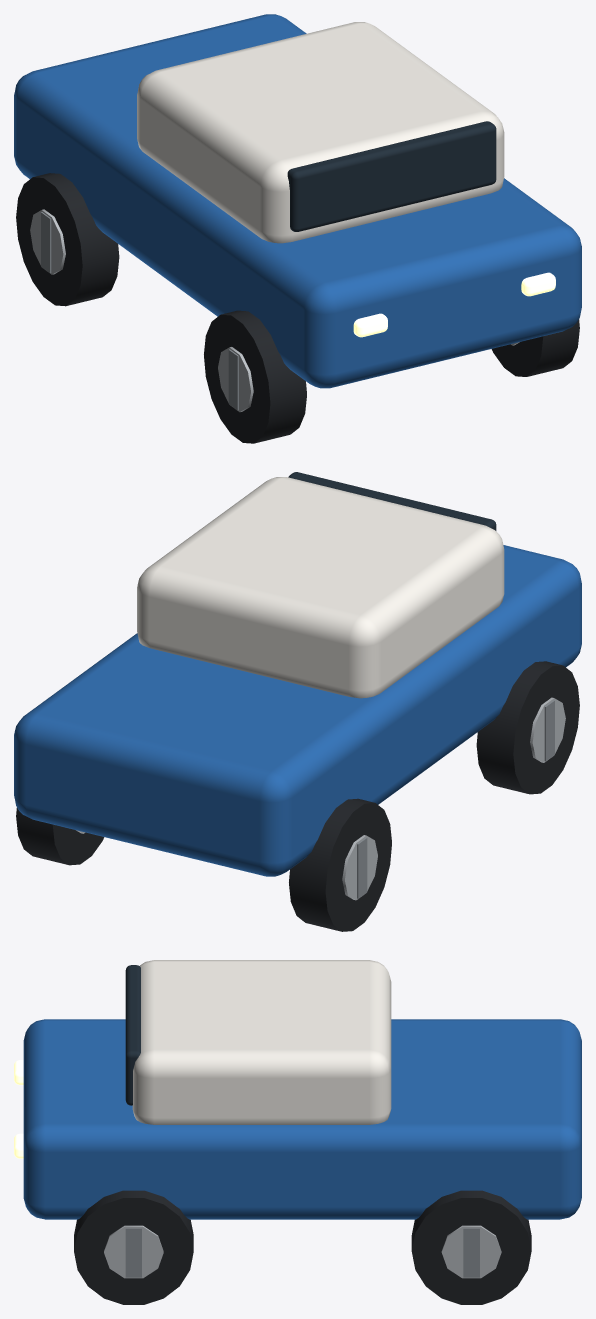
Rendered from car.glb.
3 renders of one model, top to bottom at view 1: azimuth 30°, elevation 25°; view 2: azimuth 150°, elevation 25°; view 3: azimuth 270°, elevation 25°, orthographic. The views are drawn at different scales.
Bounding box in the file's own units: 1.21 × 0.9367 × 2.08.
